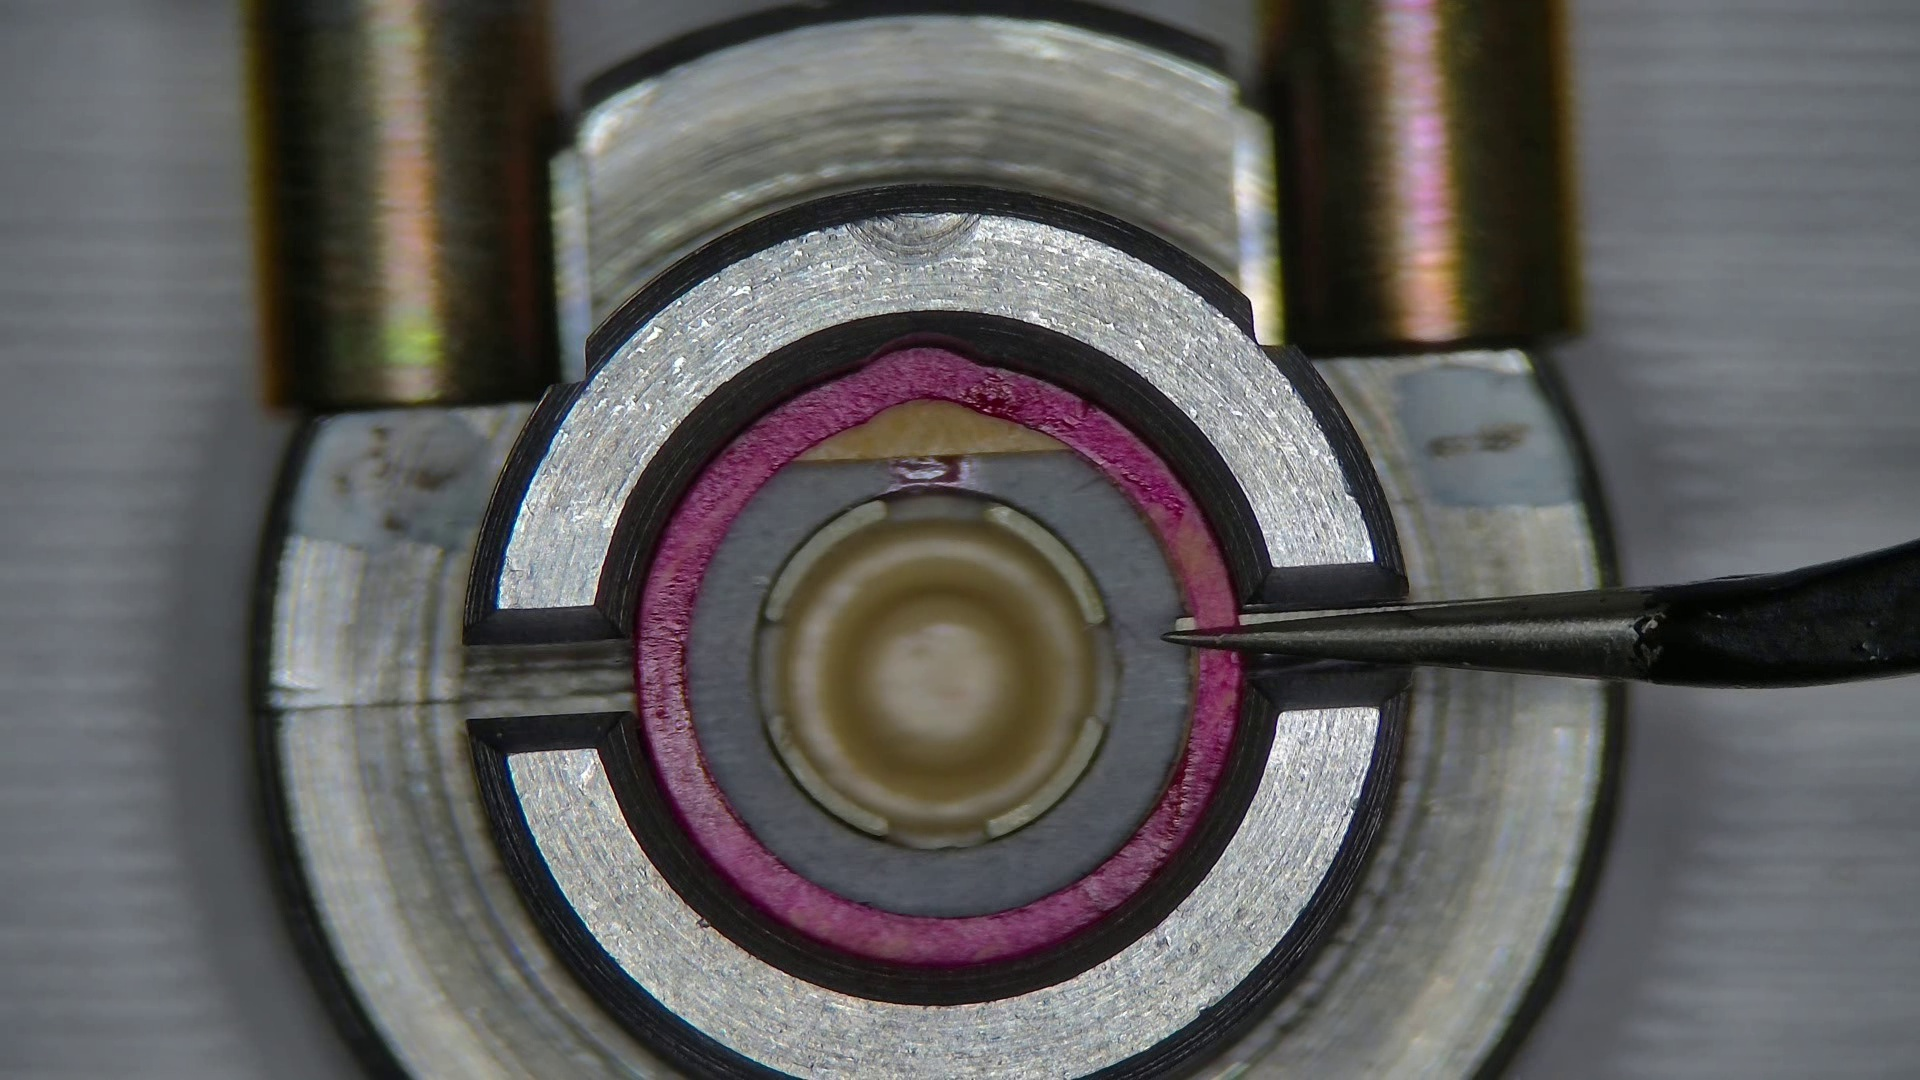GreyOring: (636, 345, 1240, 964)
YellowOring: (691, 454, 1189, 915)
redOring: (795, 401, 1073, 465)
